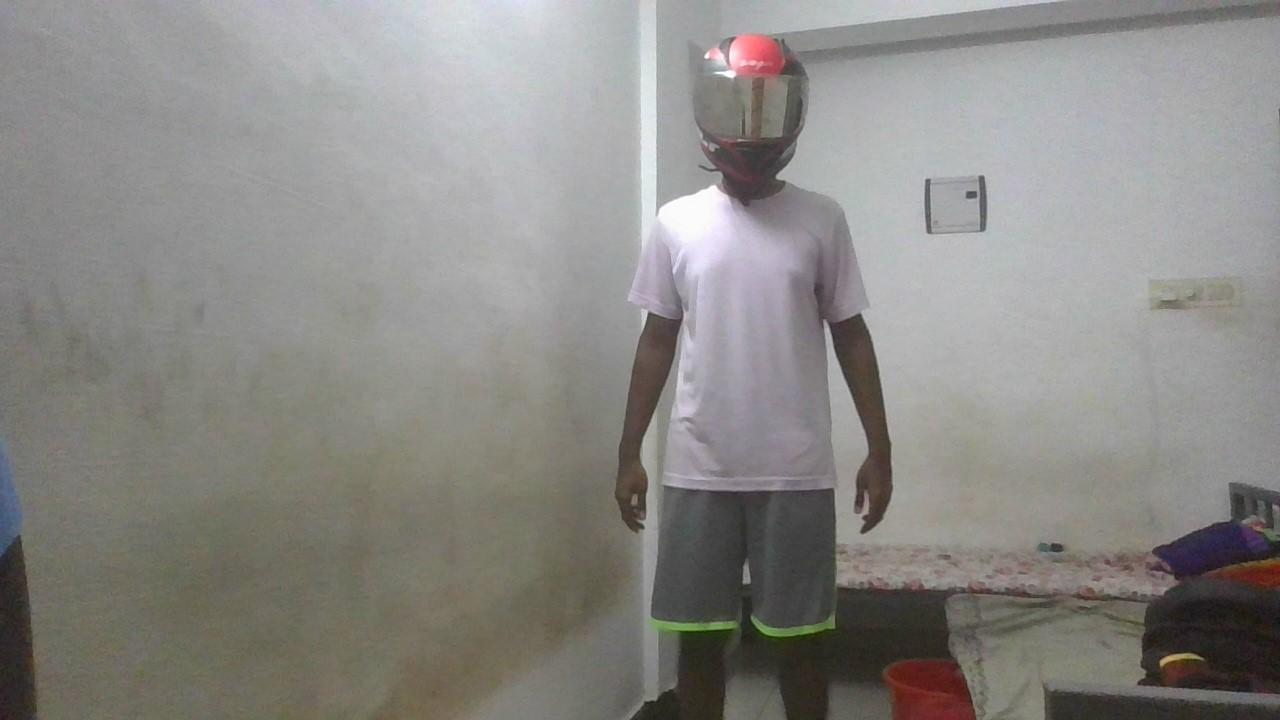helmet: (691, 32, 811, 193)
